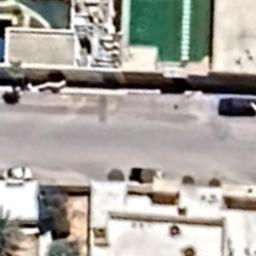sedan: (2, 165, 34, 180)
van: (218, 96, 256, 118)
